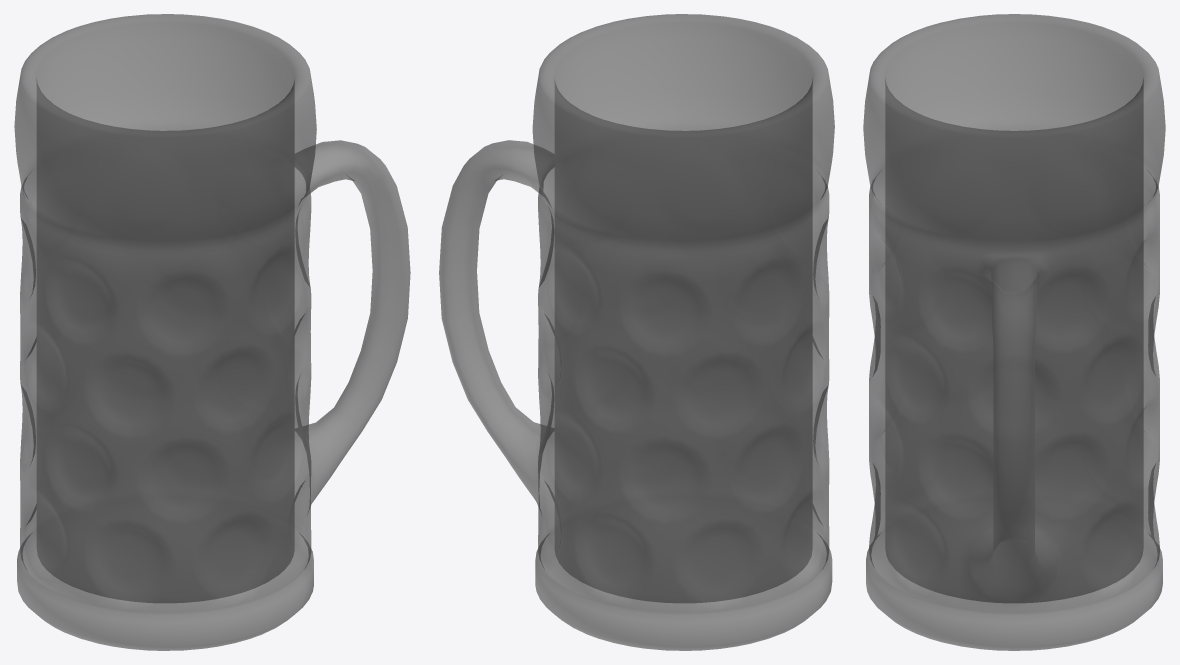
The model's file is beer_mug_glass.glb.
The picture shows the model from 3 angles, left to right: view 1: azimuth 30°, elevation 25°; view 2: azimuth 150°, elevation 25°; view 3: azimuth 270°, elevation 25°; orthographic projection.
Parts seen in each view (by area): view 1: Plane; view 2: Plane; view 3: Plane.
Boxes of the visible parts, x1,y1,x2,y2 form: Plane: [14, 14, 410, 650]; Plane: [439, 14, 834, 650]; Plane: [863, 14, 1165, 650].
Size of the model in its own units: 0.1552 by 0.2076 by 0.1096.
1 material, 1 textured.
